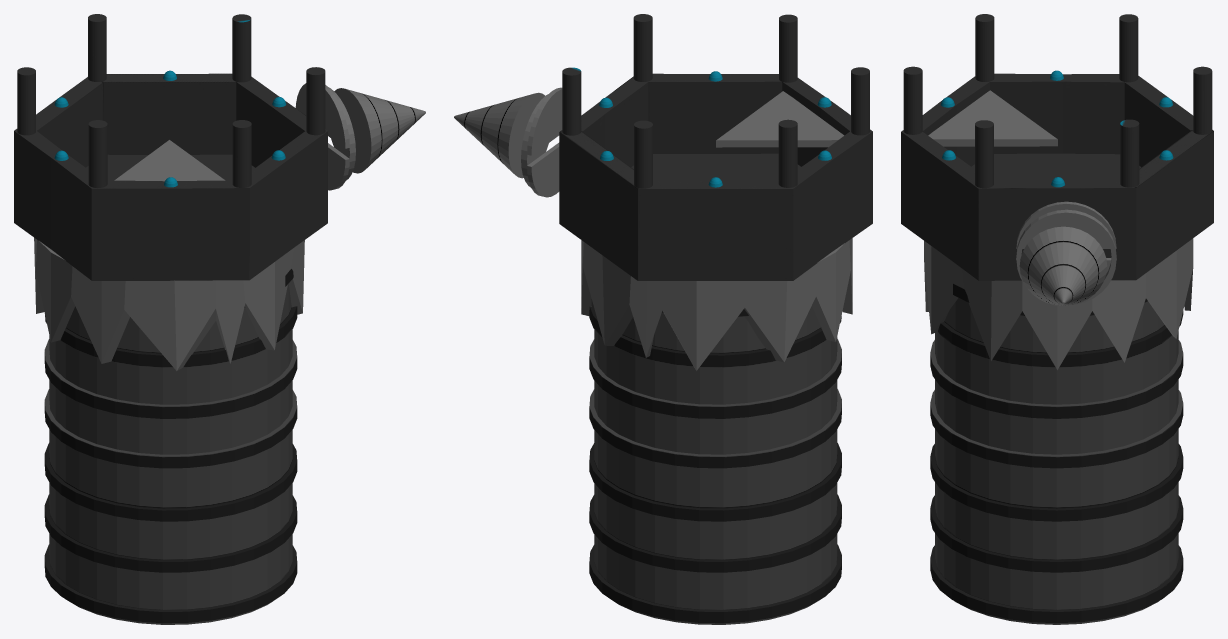
File: Base2__planaSeparate.fbx
The picture shows the model from 3 angles, left to right: view 1: azimuth 30°, elevation 25°; view 2: azimuth 150°, elevation 25°; view 3: azimuth 270°, elevation 25°; orthographic projection.
Visible parts, largest first — view 1: Cylinder.059, Cylinder.056, Cube.025, Cylinder.063, Cube.022, Cube.021, Cylinder.065, Cylinder.066; view 2: Cylinder.059, Cylinder.056, Cube.025, Cube.022, Cylinder.063, Cube.021, Cylinder.065, Cylinder.066; view 3: Cylinder.059, Cylinder.056, Cube.025, Cylinder.063, Cube.022, Cube.021, Cylinder.065, Cylinder.062.
Boxes of the visible parts, x1=… form: Cylinder.059: x1=44, y1=269, x2=297, y2=624; Cylinder.056: x1=14, y1=14, x2=327, y2=280; Cube.025: x1=34, y1=237, x2=304, y2=370; Cylinder.063: x1=331, y1=88, x2=425, y2=173; Cube.022: x1=114, y1=140, x2=225, y2=181; Cube.021: x1=86, y1=154, x2=254, y2=180; Cylinder.065: x1=295, y1=83, x2=349, y2=148; Cylinder.066: x1=328, y1=143, x2=349, y2=190; Cylinder.059: x1=589, y1=299, x2=841, y2=624; Cylinder.056: x1=559, y1=14, x2=872, y2=280; Cube.025: x1=581, y1=238, x2=852, y2=370; Cube.022: x1=716, y1=91, x2=844, y2=147; Cylinder.063: x1=454, y1=92, x2=548, y2=178; Cube.021: x1=631, y1=153, x2=800, y2=180; Cylinder.065: x1=527, y1=87, x2=562, y2=155; Cylinder.066: x1=527, y1=142, x2=559, y2=197; Cylinder.059: x1=930, y1=283, x2=1183, y2=624; Cylinder.056: x1=901, y1=14, x2=1213, y2=280; Cube.025: x1=924, y1=238, x2=1193, y2=369; Cylinder.063: x1=1019, y1=226, x2=1107, y2=305; Cube.022: x1=928, y1=90, x2=1057, y2=146; Cube.021: x1=971, y1=153, x2=1141, y2=180; Cylinder.065: x1=1016, y1=201, x2=1116, y2=248; Cylinder.062: x1=1016, y1=209, x2=1116, y2=297.
Bounding box in the file's own units: 5.46 × 6.94 × 3.91.
Materials: 7 (7 with a texture image).
